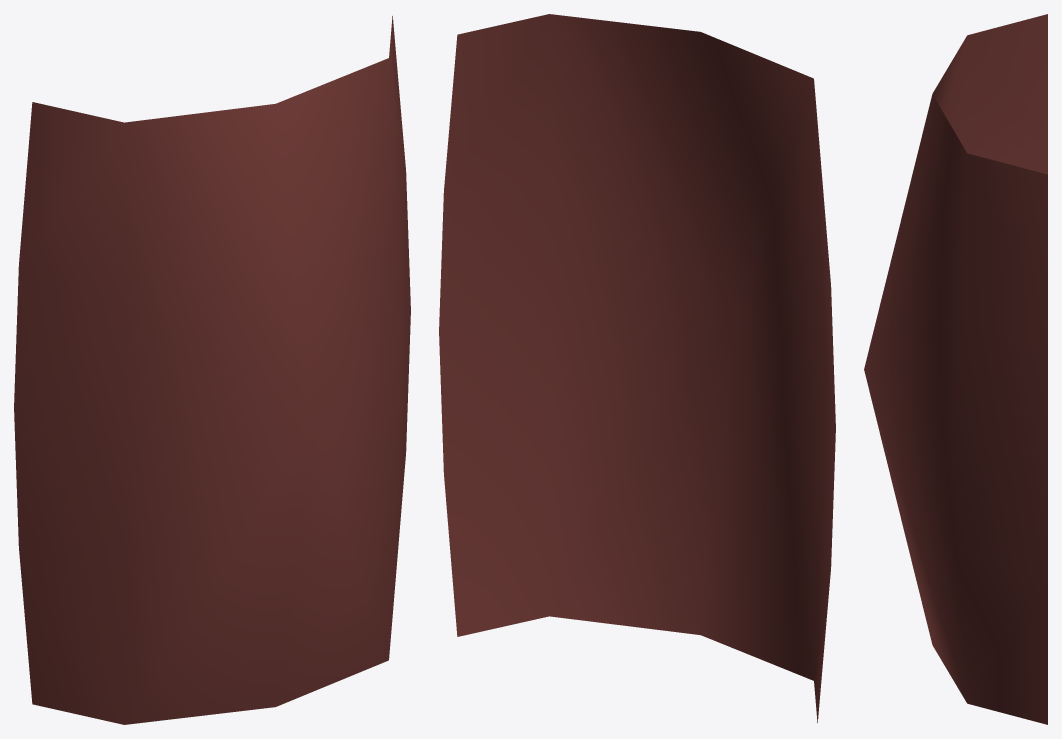
Rendered from boss_b_4.dae.
3 renders of one model, left to right at view 1: azimuth 30°, elevation 25°; view 2: azimuth 150°, elevation 25°; view 3: azimuth 270°, elevation 25°, orthographic. The views are drawn at different scales.
Visible parts, largest first — view 1: Celtic_shield_Boss_B_4; view 2: Celtic_shield_Boss_B_4; view 3: Celtic_shield_Boss_B_4.
Part boxes in pixels (x1,y1,x2,y2): Celtic_shield_Boss_B_4: (14, 16, 410, 724); Celtic_shield_Boss_B_4: (439, 14, 835, 722); Celtic_shield_Boss_B_4: (864, 14, 1047, 724).
Size of the model in its own units: 0.3339 by 0.1466 by 0.4849.
